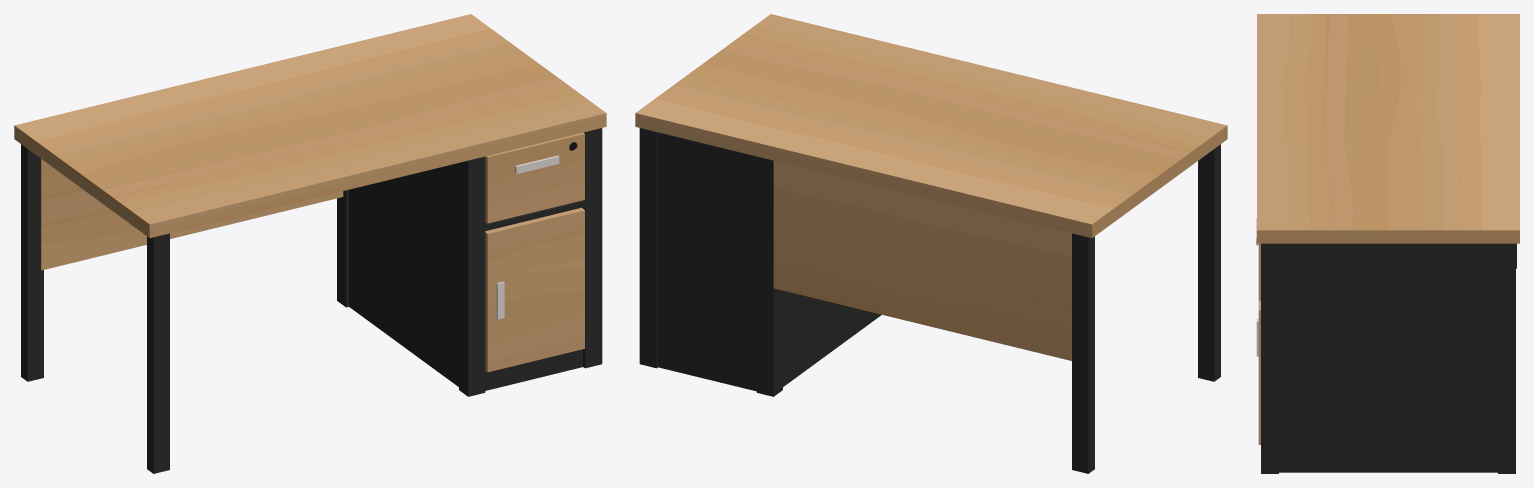
The model's file is office table.fbx.
3 views of the same model, side by side, from view 1: azimuth 30°, elevation 25°; view 2: azimuth 150°, elevation 25°; view 3: azimuth 270°, elevation 25° (orthographic). The views are drawn at different scales.
Visible parts, largest first — view 1: office table; view 2: office table; view 3: office table.
Part boxes in pixels (x1,y1,x2,y2): office table: [14, 14, 606, 473]; office table: [635, 14, 1227, 473]; office table: [1256, 14, 1519, 473].
Size of the model in its own units: 137 by 72.71 by 70.82.
3 materials, 3 textured.
